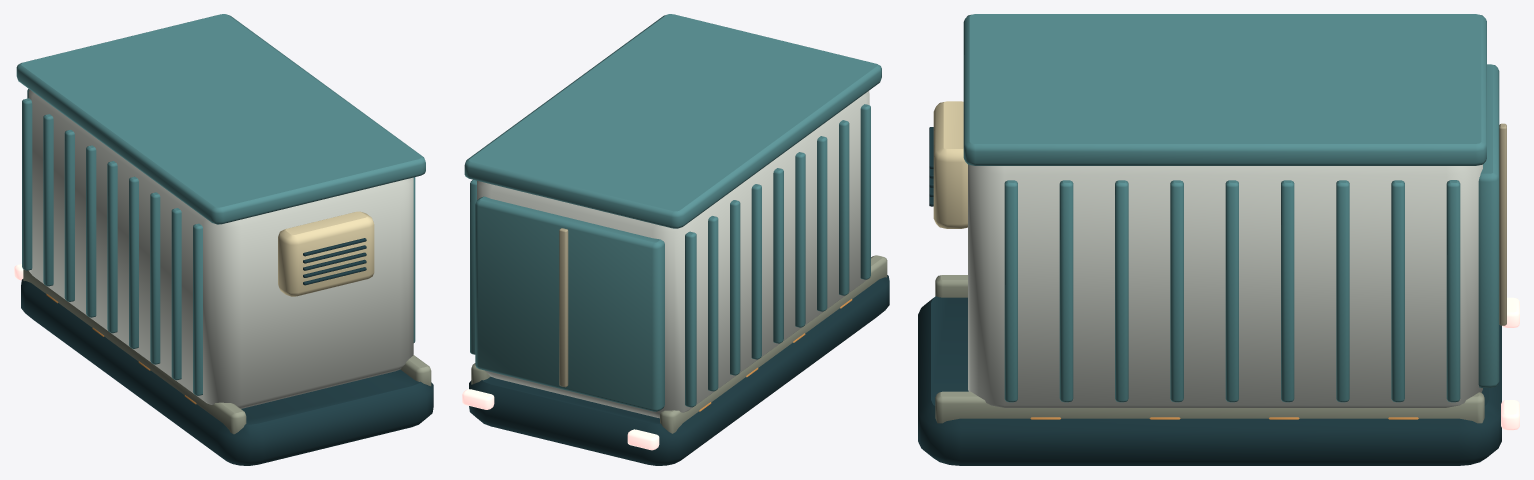
File: cold.glb
3 views of the same model, side by side, from view 1: azimuth 30°, elevation 25°; view 2: azimuth 150°, elevation 25°; view 3: azimuth 270°, elevation 25° (orthographic). The views are drawn at different scales.
Visible parts, largest first — view 1: Cold; view 2: Cold; view 3: Cold.
Part boxes in pixels (x1,y1,x2,y2): Cold: [14, 14, 433, 465]; Cold: [462, 14, 889, 465]; Cold: [918, 14, 1519, 465].
Bounding box in the file's own units: 1.9 × 2.08 × 3.49.
